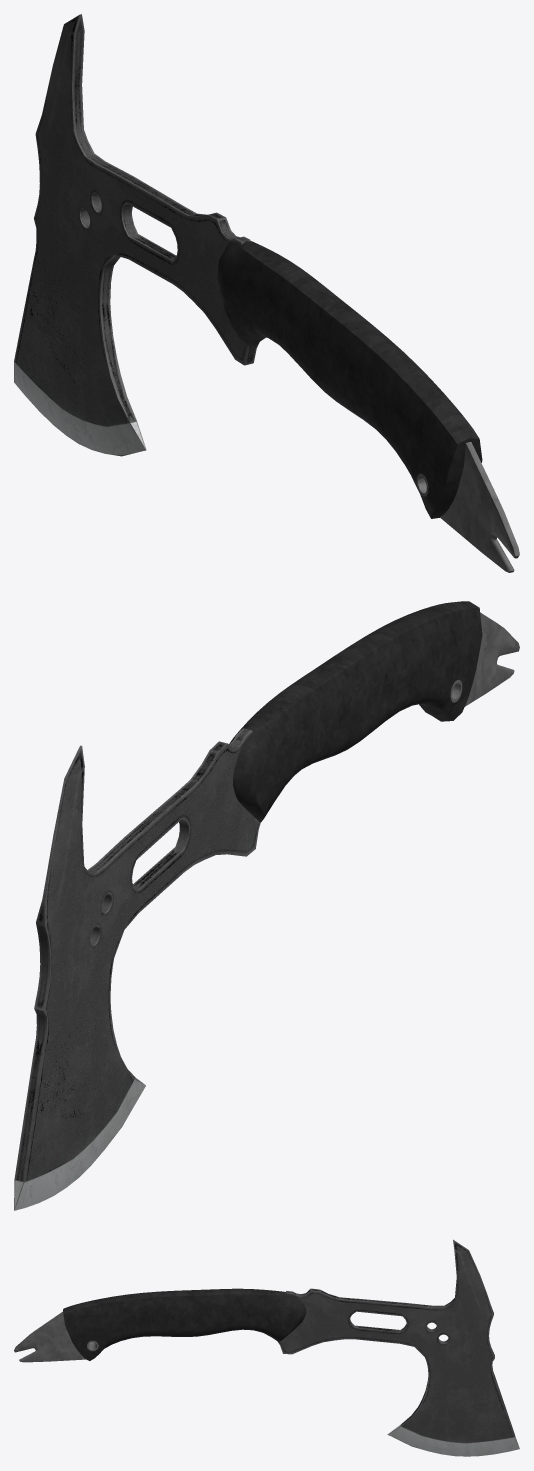
Rendered from tomahawk.glb.
3 renders of one model, top to bottom at view 1: azimuth 30°, elevation 25°; view 2: azimuth 150°, elevation 25°; view 3: azimuth 270°, elevation 25°, orthographic. The views are drawn at different scales.
Parts seen in each view (by area): view 1: defaultMaterial; view 2: defaultMaterial; view 3: defaultMaterial.
Part boxes in pixels (x1,y1,x2,y2): defaultMaterial: (14, 14, 519, 572); defaultMaterial: (14, 601, 519, 1210); defaultMaterial: (14, 1239, 519, 1456).
Size of the model in its own units: 40.39 by 484 by 1024.
1 material, 1 textured.
